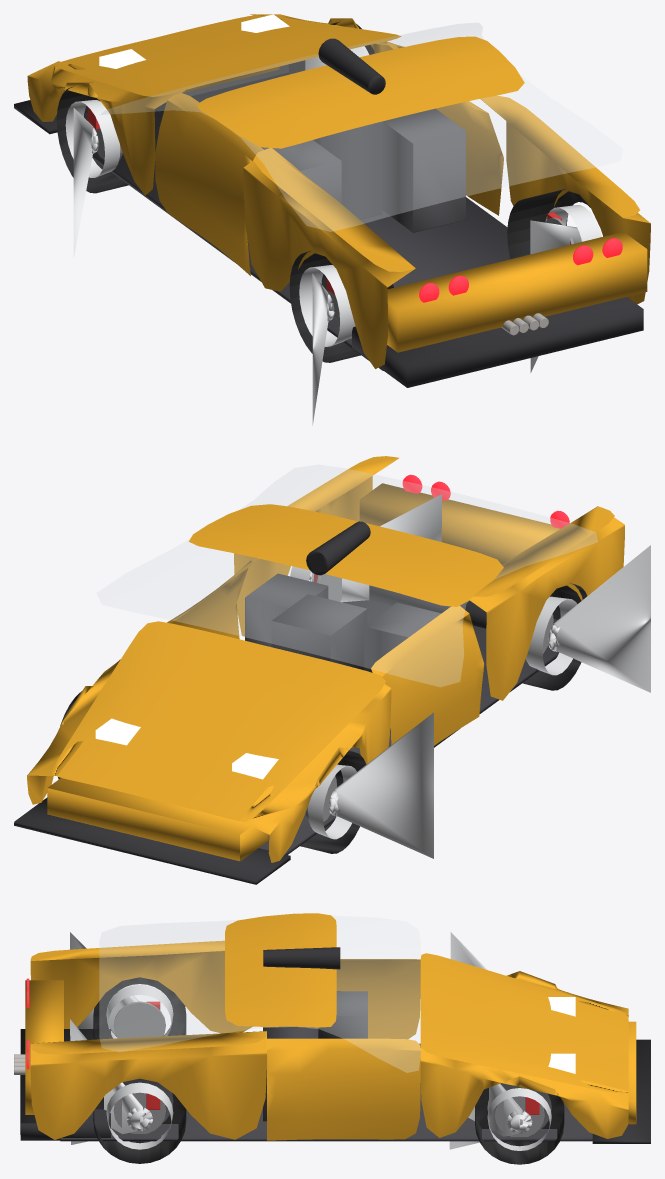
Rendered from vehicle.glb.
The picture shows the model from 3 angles, top to bottom: view 1: azimuth 30°, elevation 25°; view 2: azimuth 150°, elevation 25°; view 3: azimuth 270°, elevation 25°; orthographic projection. The views are drawn at different scales.
Parts seen in each view (by area): view 1: GLASS_Canopy, BODY_Rear_Quarters, BODY_Roof_Panel, BODY_Rear_Fascia, INTERIOR_Central_Cockpit, BODY_Doors, BODY_Hood, AERO_Rear_Diffuser, PLATFORM_Underbody, BODY_Front_Fenders, WHEEL_FR_Rim, WHEEL_RR_Rim (+9 smaller); view 2: GLASS_Canopy, BODY_Hood, BODY_Rear_Quarters, BODY_Roof_Panel, BODY_Doors, INTERIOR_Central_Cockpit, WHEEL_RR_Rim, WHEEL_FR_Rim, BODY_Front_Fenders, BODY_Front_Fascia, BODY_Rear_Fascia, AERO_Front_Splitter (+8 smaller); view 3: BODY_Rear_Quarters, GLASS_Canopy, BODY_Doors, BODY_Hood, BODY_Roof_Panel, BODY_Front_Fenders, PLATFORM_Underbody, BODY_Rear_Fascia, WHEEL_RL_Rim, INTERIOR_Central_Cockpit, WHEEL_FL_Rim, WHEEL_FL_Tire (+12 smaller).
Part boxes in pixels (x1=…): GLASS_Canopy: x1=100, y1=23, x2=622, y2=231; BODY_Rear_Quarters: x1=243, y1=95, x2=650, y2=368; BODY_Roof_Panel: x1=196, y1=36, x2=524, y2=148; BODY_Rear_Fascia: x1=387, y1=232, x2=647, y2=352; INTERIOR_Central_Cockpit: x1=262, y1=108, x2=465, y2=232; BODY_Doors: x1=155, y1=42, x2=503, y2=275; BODY_Hood: x1=61, y1=15, x2=401, y2=96; AERO_Rear_Diffuser: x1=352, y1=297, x2=643, y2=387; PLATFORM_Underbody: x1=57, y1=72, x2=509, y2=370; BODY_Front_Fenders: x1=27, y1=14, x2=404, y2=195; WHEEL_FR_Rim: x1=65, y1=100, x2=120, y2=258; WHEEL_RR_Rim: x1=299, y1=265, x2=355, y2=425; GLASS_Canopy: x1=97, y1=465, x2=597, y2=686; BODY_Hood: x1=57, y1=621, x2=385, y2=821; BODY_Rear_Quarters: x1=234, y1=456, x2=624, y2=700; BODY_Roof_Panel: x1=189, y1=504, x2=503, y2=606; BODY_Doors: x1=167, y1=558, x2=484, y2=745; INTERIOR_Central_Cockpit: x1=245, y1=573, x2=441, y2=672; WHEEL_RR_Rim: x1=526, y1=545, x2=650, y2=692; WHEEL_FR_Rim: x1=308, y1=712, x2=433, y2=858; BODY_Front_Fenders: x1=27, y1=659, x2=391, y2=862; BODY_Front_Fascia: x1=47, y1=778, x2=268, y2=861; BODY_Rear_Fascia: x1=359, y1=483, x2=559, y2=565; AERO_Front_Splitter: x1=14, y1=797, x2=290, y2=884; BODY_Rear_Quarters: x1=30, y1=940, x2=266, y2=1139; GLASS_Canopy: x1=99, y1=916, x2=420, y2=1072; BODY_Doors: x1=267, y1=959, x2=420, y2=1140; BODY_Hood: x1=420, y1=953, x2=628, y2=1090; BODY_Roof_Panel: x1=225, y1=913, x2=336, y2=1027; BODY_Front_Fenders: x1=420, y1=971, x2=628, y2=1138; PLATFORM_Underbody: x1=60, y1=1043, x2=592, y2=1141; BODY_Rear_Fascia: x1=25, y1=980, x2=63, y2=1114; WHEEL_RL_Rim: x1=70, y1=1019, x2=173, y2=1149; INTERIOR_Central_Cockpit: x1=263, y1=991, x2=367, y2=1121; WHEEL_FL_Rim: x1=449, y1=1083, x2=551, y2=1150; WHEEL_FL_Tire: x1=475, y1=1083, x2=564, y2=1164.
Bounding box in the file's own units: 2.56 × 1.46 × 4.56.
